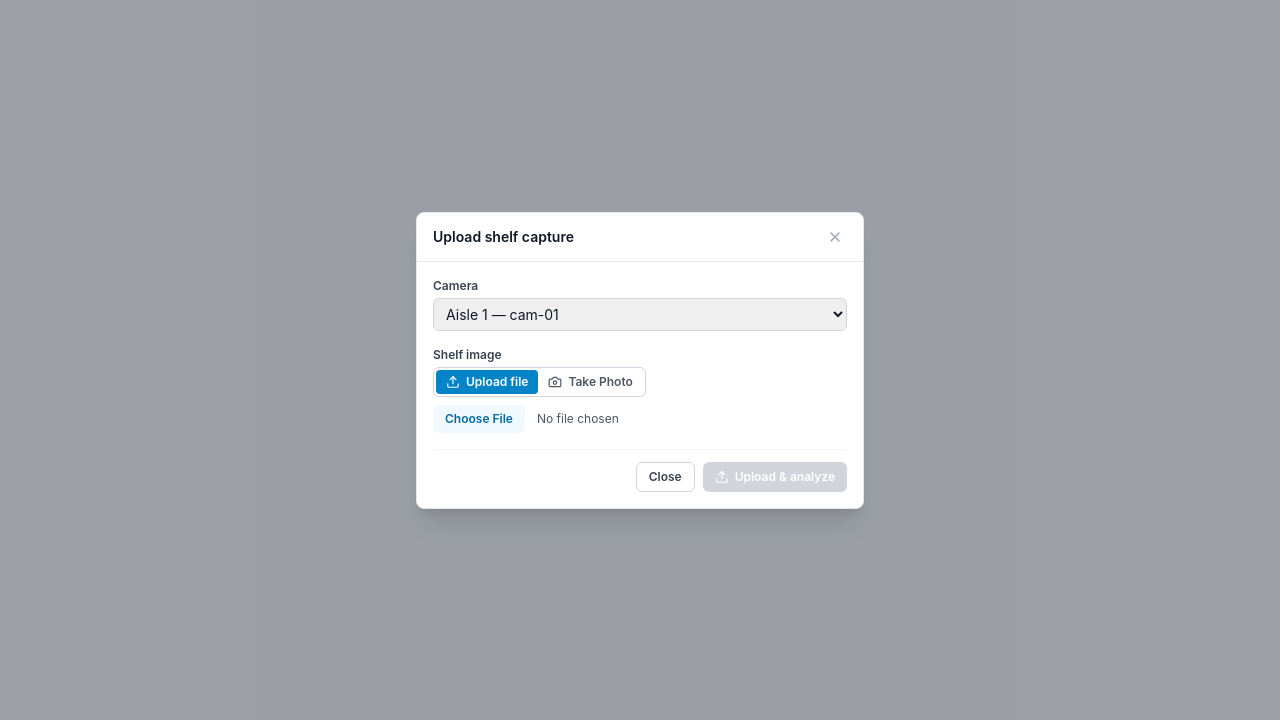
Test: UploadCaptureModal - Live camera capture › falls back to the file picker when getUserMedia is unavailable
The width and height of the screenshot is (1280, 720).
Click the button "Take Photo" at (591, 382), box [538, 370, 643, 394]
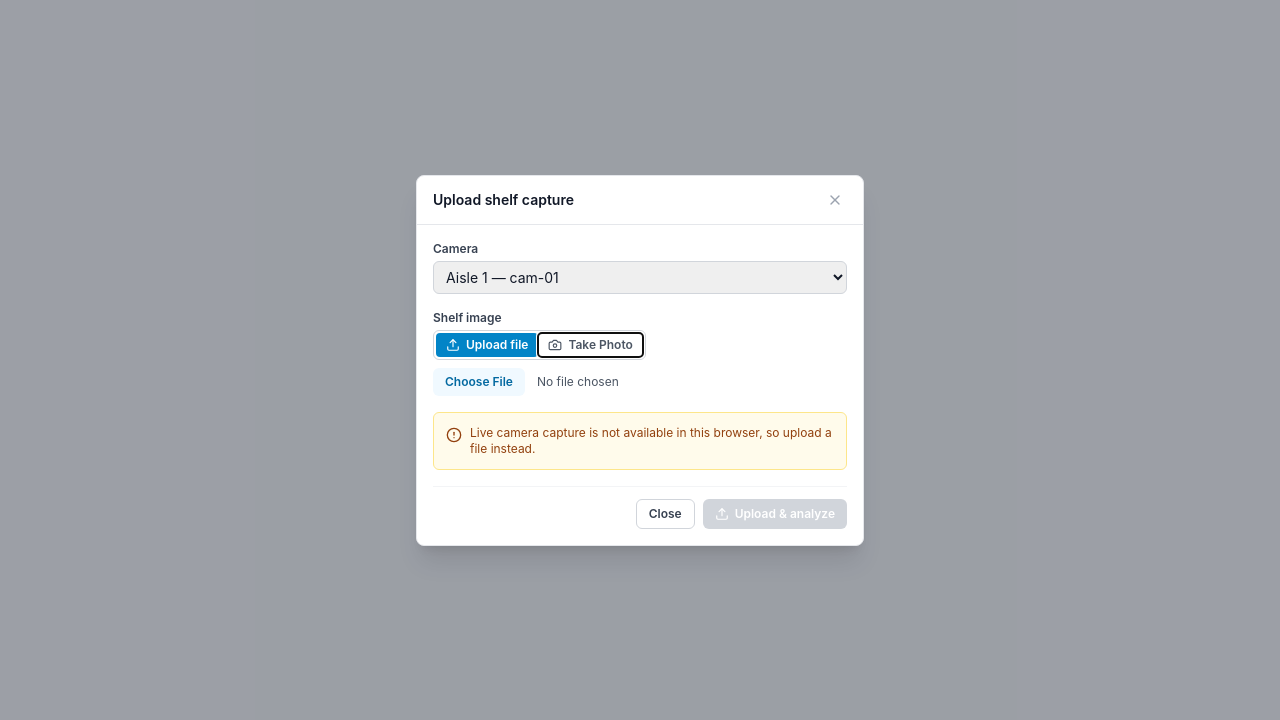
Check: the file field is shown, box [433, 368, 847, 396]
Check: the text "Live camera capture is not available" is shown, box [470, 424, 832, 456]
